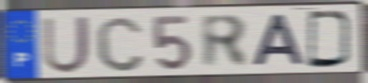5: (150, 13, 196, 72)
A: (250, 12, 307, 68)
C: (94, 14, 147, 74)
D: (306, 9, 356, 70)
R: (198, 13, 252, 71)
U: (41, 14, 93, 76)
